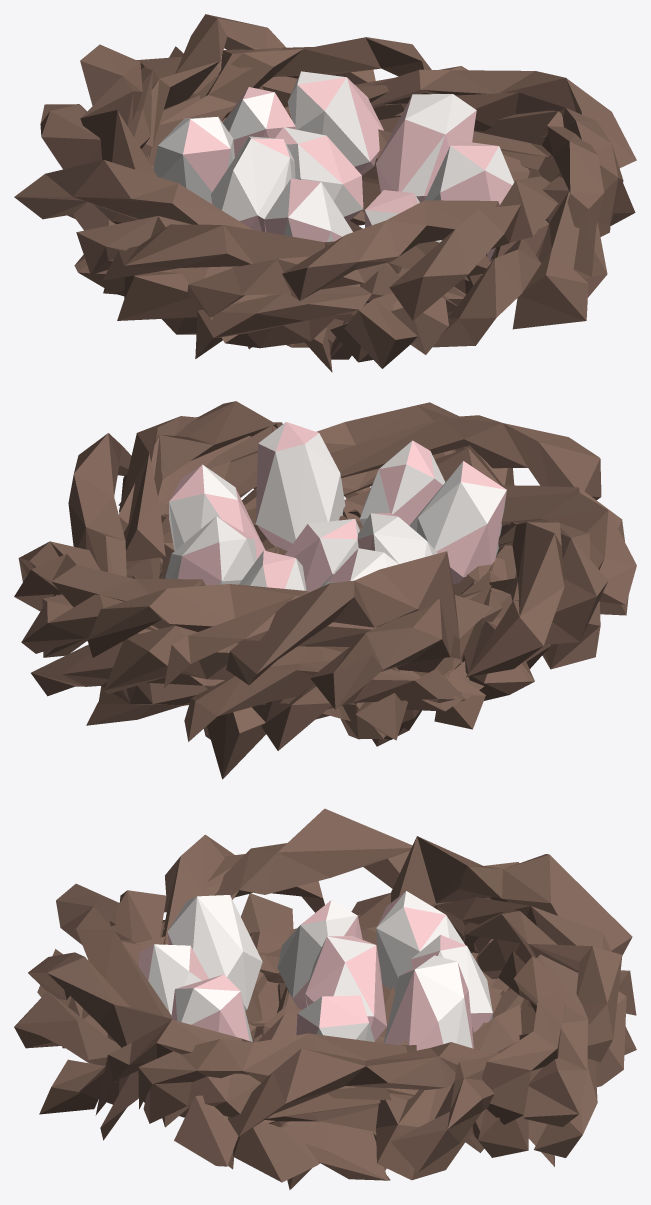
Rendered from Nest_19.fbx.
The picture shows the model from 3 angles, top to bottom: view 1: azimuth 30°, elevation 25°; view 2: azimuth 150°, elevation 25°; view 3: azimuth 270°, elevation 25°; orthographic projection.
Parts seen in each view (by area): view 1: Nest_19_LOD0; view 2: Nest_19_LOD0; view 3: Nest_19_LOD0.
Boxes of the visible parts, x1=… form: Nest_19_LOD0: x1=14, y1=14, x2=636, y2=372; Nest_19_LOD0: x1=14, y1=401, x2=636, y2=779; Nest_19_LOD0: x1=14, y1=808, x2=636, y2=1189.
Size of what is drawn, in the model's own units: 48.33 by 19.38 by 49.16.
